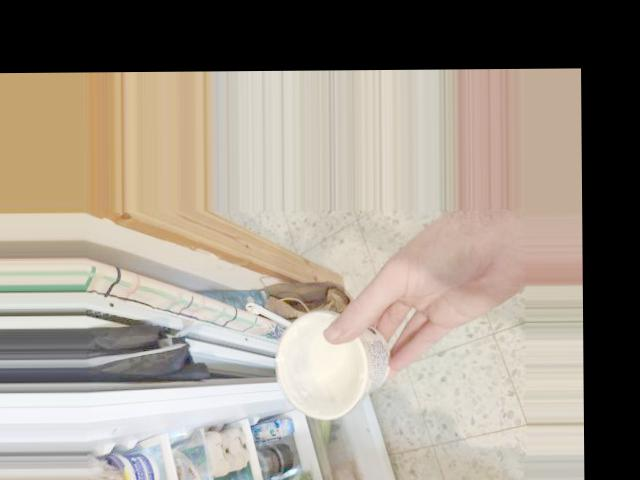cotage: (276, 302, 397, 401)
